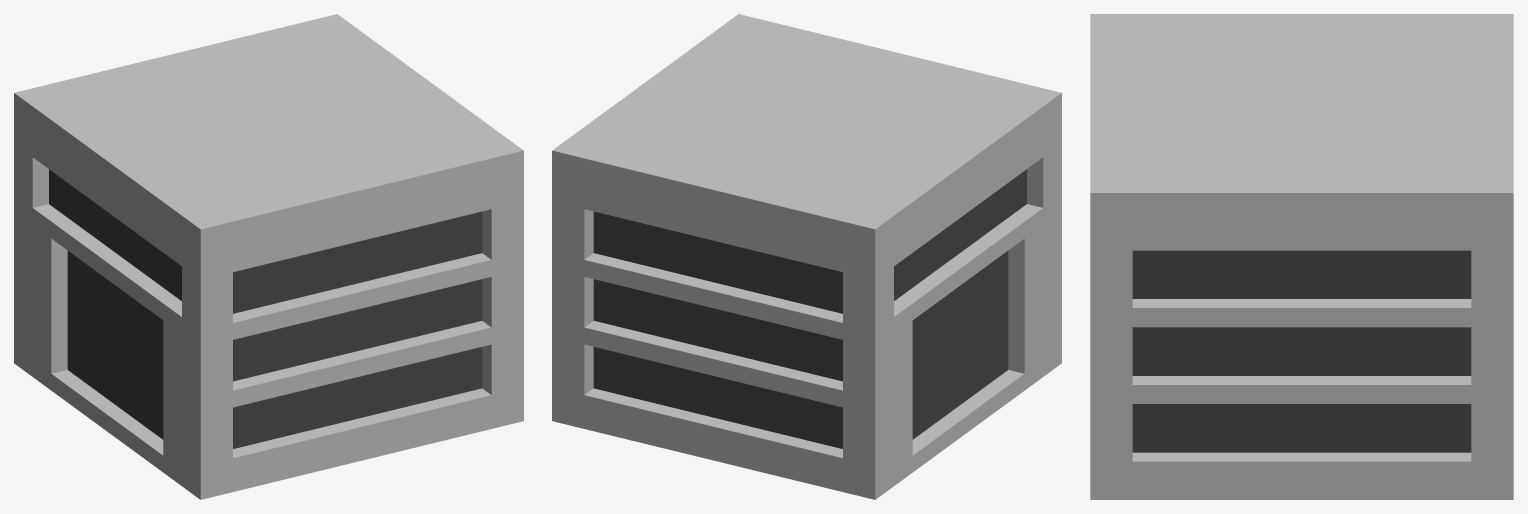
File: cars-9-WhiteBuilding.obj
3 renders of one model, left to right at view 1: azimuth 30°, elevation 25°; view 2: azimuth 150°, elevation 25°; view 3: azimuth 270°, elevation 25°, orthographic. The views are drawn at different scales.
Visible parts, largest first — view 1: WhiteBuilding; view 2: WhiteBuilding; view 3: WhiteBuilding.
Boxes of the visible parts, left/top/right/bottom form: WhiteBuilding: left=14, top=14, right=523, bottom=499; WhiteBuilding: left=552, top=14, right=1061, bottom=499; WhiteBuilding: left=1090, top=14, right=1513, bottom=499.
Bounding box in the file's own units: 2 × 1.6 × 2.
1 material, 1 textured.
